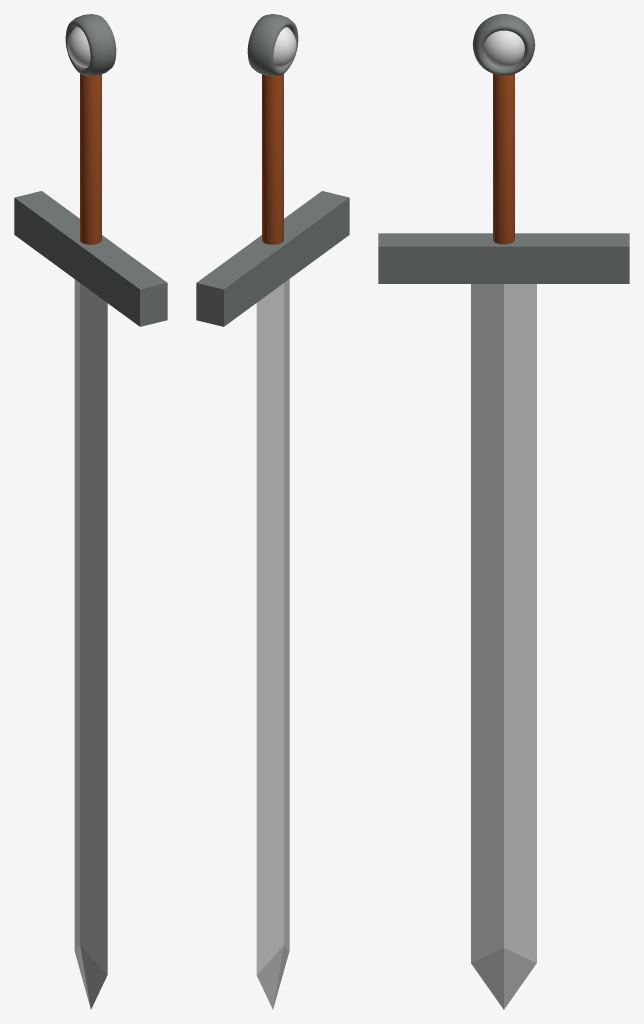
The model's file is Espada.fbx.
The picture shows the model from 3 angles, left to right: view 1: azimuth 30°, elevation 25°; view 2: azimuth 150°, elevation 25°; view 3: azimuth 270°, elevation 25°; orthographic projection.
Visible parts, largest first — view 1: Lamina, Cube, Cylinder, Torus, Sphere; view 2: Lamina, Cube, Cylinder, Torus, Sphere; view 3: Lamina, Cube, Cylinder, Torus, Sphere.
Boxes of the visible parts, <box> form: Lamina: <box>74,279,107,1009</box>; Cube: <box>14,191,167,326</box>; Cylinder: <box>80,73,101,244</box>; Torus: <box>65,14,116,76</box>; Sphere: <box>67,27,90,67</box>; Lamina: <box>256,279,289,1009</box>; Cube: <box>196,191,349,326</box>; Cylinder: <box>262,73,283,244</box>; Torus: <box>247,14,298,76</box>; Sphere: <box>273,27,296,67</box>; Lamina: <box>471,284,536,1009</box>; Cube: <box>378,233,629,283</box>; Cylinder: <box>493,74,514,244</box>; Torus: <box>472,14,535,75</box>; Sphere: <box>483,30,524,68</box>.
Size of the model in its own units: 20 by 464 by 107.
